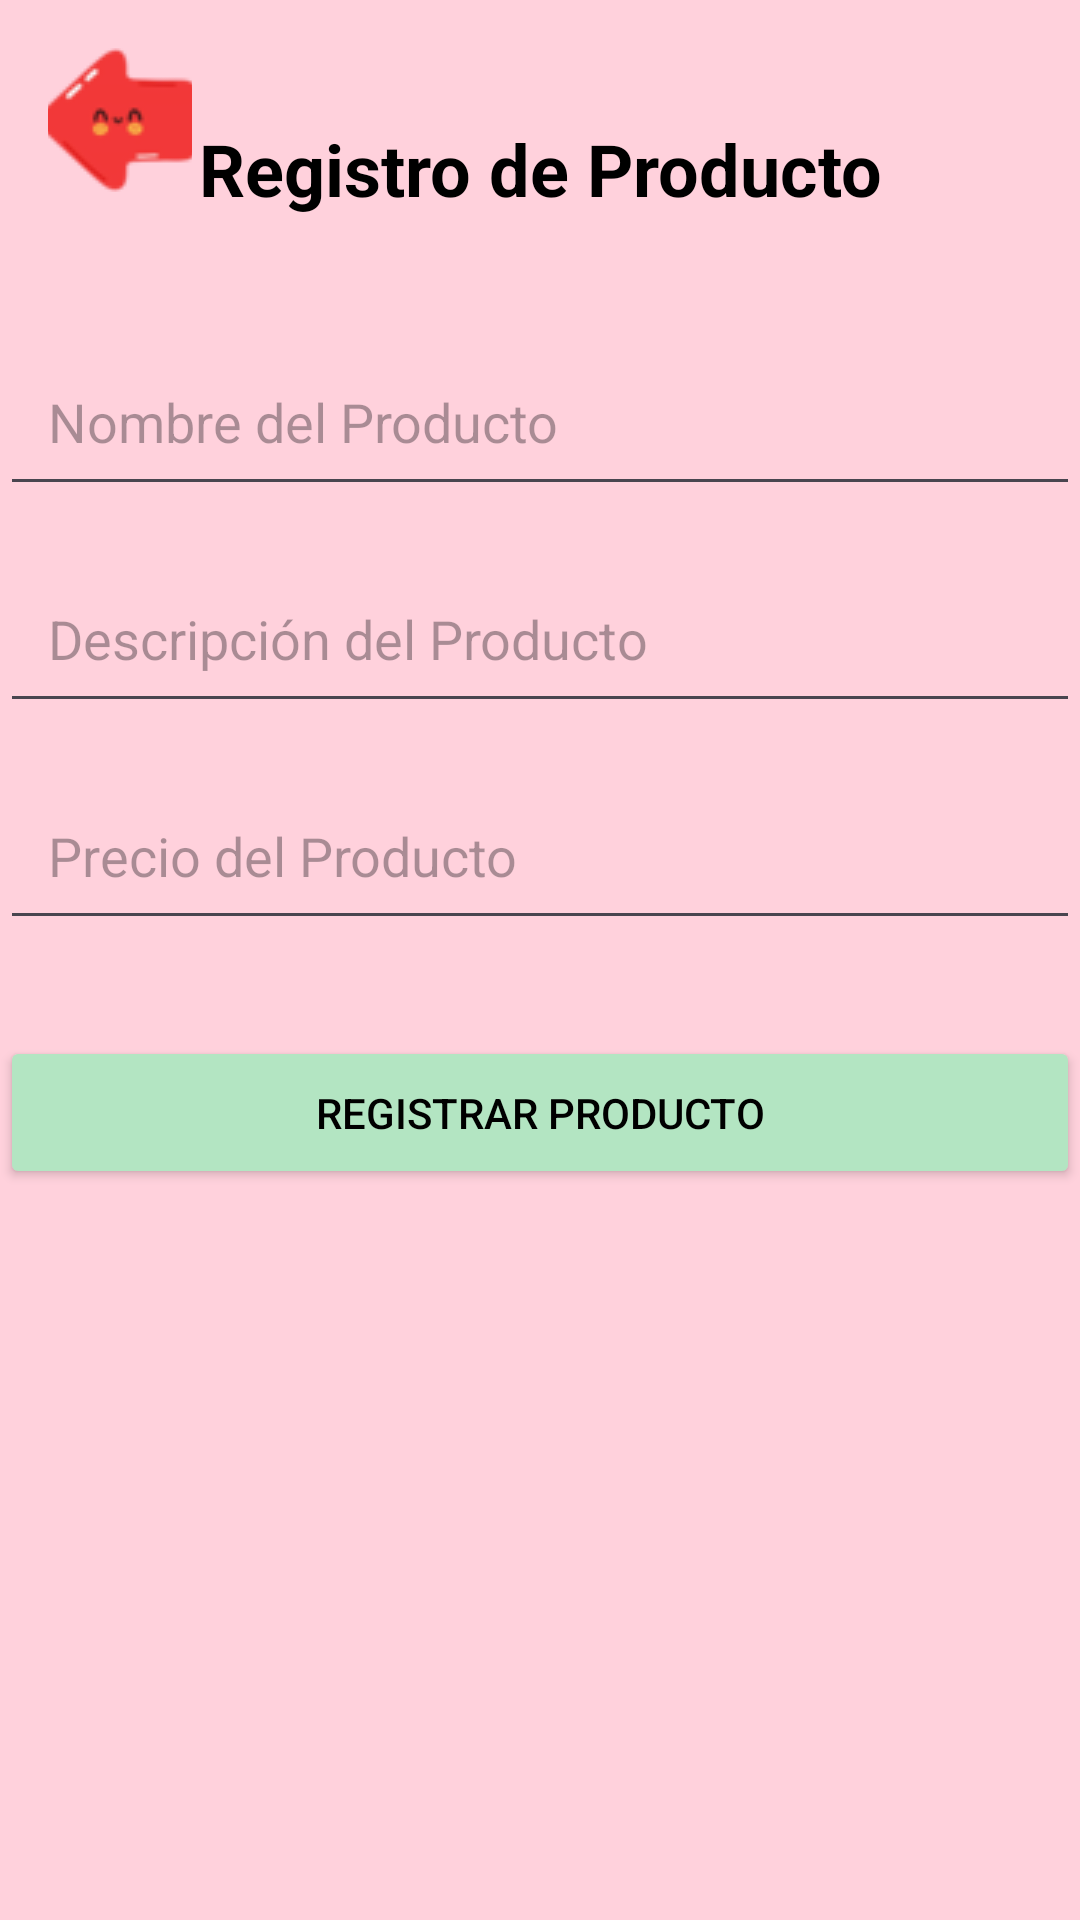

Icons on this 1080x1920 Android screen, each with the point to tap as point (x, y):
Volver: point (120, 120)
